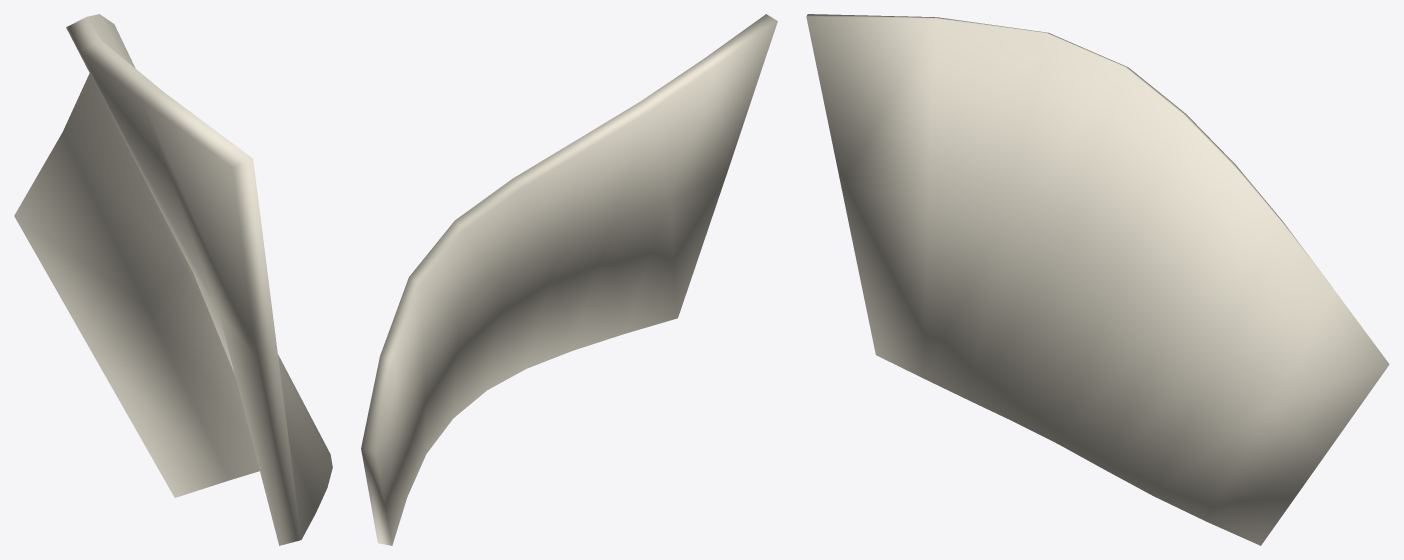
3 renders of one model, left to right at view 1: azimuth 30°, elevation 25°; view 2: azimuth 150°, elevation 25°; view 3: azimuth 270°, elevation 25°, orthographic. The views are drawn at different scales.
Visible parts, largest first — view 1: ZA_7b90fd48931eec98; view 2: ZA_7b90fd48931eec98; view 3: ZA_7b90fd48931eec98.
Part boxes in pixels (x1,y1,x2,y2): ZA_7b90fd48931eec98: [14, 14, 332, 545]; ZA_7b90fd48931eec98: [361, 14, 777, 545]; ZA_7b90fd48931eec98: [806, 14, 1389, 545].
Size of the model in its own units: 0.00776 by 0.0153 by 0.0184.
